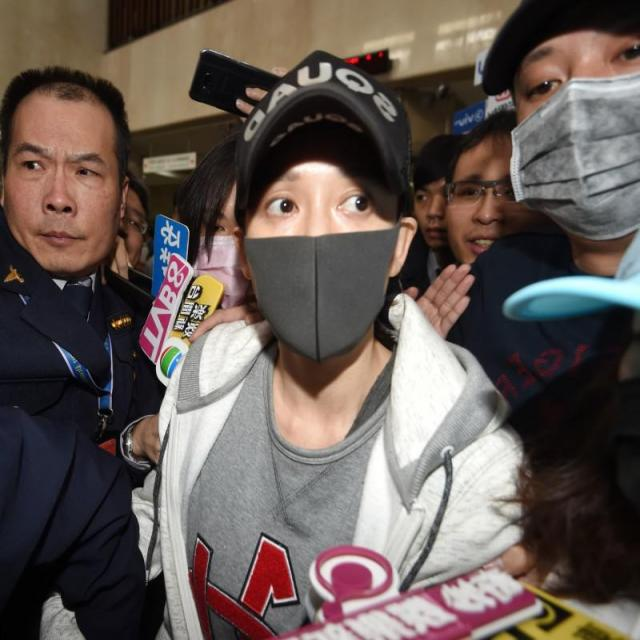face: (232, 65, 415, 367), (491, 1, 639, 258), (4, 72, 130, 280), (449, 114, 525, 272), (194, 180, 250, 316), (413, 129, 459, 258)
